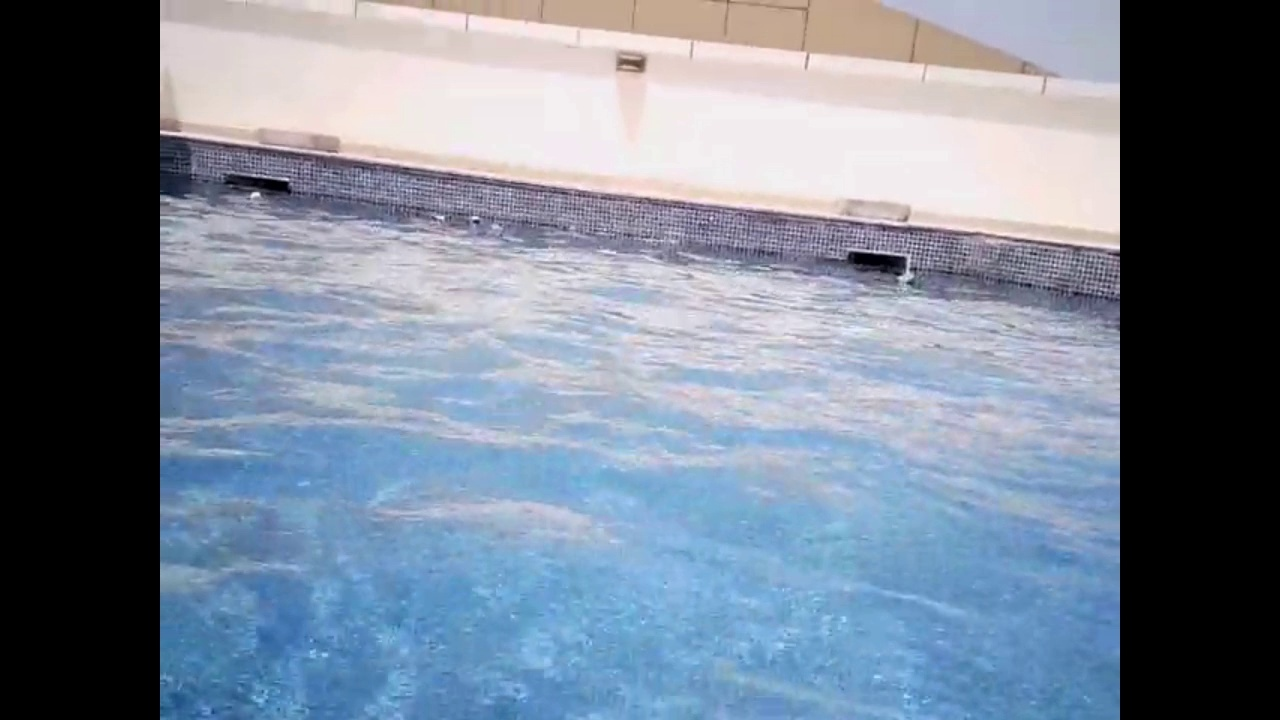debris: (893, 270, 918, 287), (466, 211, 483, 226), (246, 188, 262, 203)
